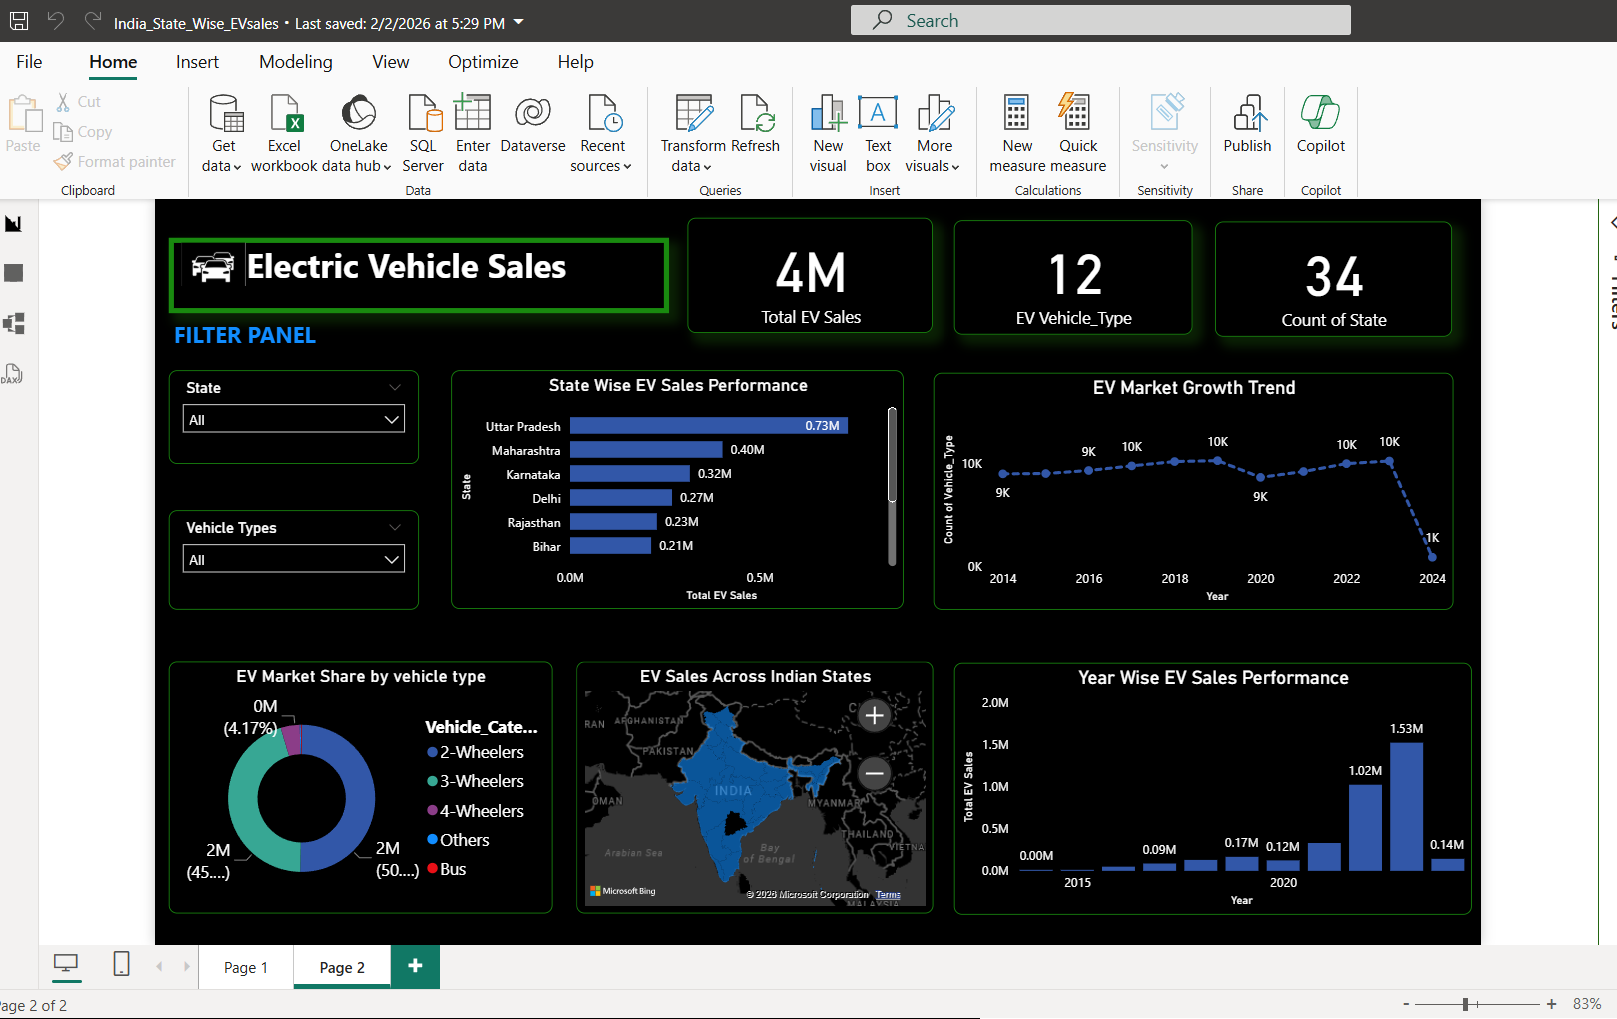

What the dashboard file says about the page in this screenshot:
{"tool":"powerbi","page":{"name":"Page 2","canvas":[1280,720],"ordinal":1},"visuals":[{"type":"shape","box":[12.9,37.1,482.9,72.9],"z":0},{"type":"image","box":[12.9,37.1,85.7,51.4],"z":1000},{"type":"textbox","box":[82.9,37.1,357.1,58.6],"z":2000},{"type":"slicer","fields":{"Values":["EV_Dataset.State"]},"box":[12.9,165.7,241.4,90],"z":3000},{"type":"textbox","box":[12.9,111.4,161.4,40],"z":4000},{"type":"card","fields":{"Values":["EV_Dataset.Total EV Sales"]},"box":[514.3,18.6,237.1,111.4],"z":5000},{"type":"card","fields":{"Values":["Count(EV_Dataset.Vehicle_Type)"]},"box":[771.4,20,230,110],"z":6000},{"type":"card","fields":{"Values":["Count(EV_Dataset.State)"]},"box":[1022.9,21.4,228.6,111.4],"z":7000},{"type":"slicer","fields":{"Values":["EV_Dataset.Vehicle_Type"]},"box":[12.9,300,241.4,95.7],"z":9000},{"type":"barChart","title":"State Wise EV Sales Performance","fields":{"Category":["EV_Dataset.State"],"Y":["EV_Dataset.Total EV Sales"]},"box":[285.7,165.7,437.1,230],"z":9001},{"type":"lineChart","title":"EV Market Growth Trend","fields":{"Category":["EV_Dataset.Date.Variation.Date Hierarchy.Year"],"Y":["CountNonNull(EV_Dataset.Vehicle_Type)"]},"box":[751.4,167.1,501.4,228.6],"z":9002},{"type":"donutChart","title":"EV Market Share by vehicle type","fields":{"Y":["EV_Dataset.Total EV Sales"],"Category":["EV_Dataset.Vehicle_Category"]},"box":[13.3,446.7,370,243.3],"z":9003},{"type":"filledMap","title":"EV Sales Across Indian States","fields":{"Series":["EV_Dataset.Vehicle_Type"],"Category":["EV_Dataset.State"]},"box":[406.7,446.7,345,243.3],"z":9004},{"type":"columnChart","title":"Year Wise EV Sales Performance","fields":{"Category":["EV_Dataset.Date.Variation.Date Hierarchy.Year"],"Y":["EV_Dataset.Total EV Sales"]},"box":[771.4,447.1,500,242.9],"z":9005}]}

Visuals, with their boxes on the page's 1280x720 design canvas (x1, y1, x2, y2). These are canvas units, not pixel positions in the 1617x1019 screenshot, which may show the page scaled, cropped or inside an application window:
shape: {"left": 13, "top": 37, "right": 496, "bottom": 110}
image: {"left": 13, "top": 37, "right": 99, "bottom": 88}
textbox: {"left": 83, "top": 37, "right": 440, "bottom": 96}
slicer - EV_Dataset.State: {"left": 13, "top": 166, "right": 254, "bottom": 256}
textbox: {"left": 13, "top": 111, "right": 174, "bottom": 151}
card - EV_Dataset.Total EV Sales: {"left": 514, "top": 19, "right": 751, "bottom": 130}
card - Count(EV_Dataset.Vehicle_Type): {"left": 771, "top": 20, "right": 1001, "bottom": 130}
card - Count(EV_Dataset.State): {"left": 1023, "top": 21, "right": 1252, "bottom": 133}
slicer - EV_Dataset.Vehicle_Type: {"left": 13, "top": 300, "right": 254, "bottom": 396}
"State Wise EV Sales Performance" barChart: {"left": 286, "top": 166, "right": 723, "bottom": 396}
"EV Market Growth Trend" lineChart: {"left": 751, "top": 167, "right": 1253, "bottom": 396}
"EV Market Share by vehicle type" donutChart: {"left": 13, "top": 447, "right": 383, "bottom": 690}
"EV Sales Across Indian States" filledMap: {"left": 407, "top": 447, "right": 752, "bottom": 690}
"Year Wise EV Sales Performance" columnChart: {"left": 771, "top": 447, "right": 1271, "bottom": 690}
